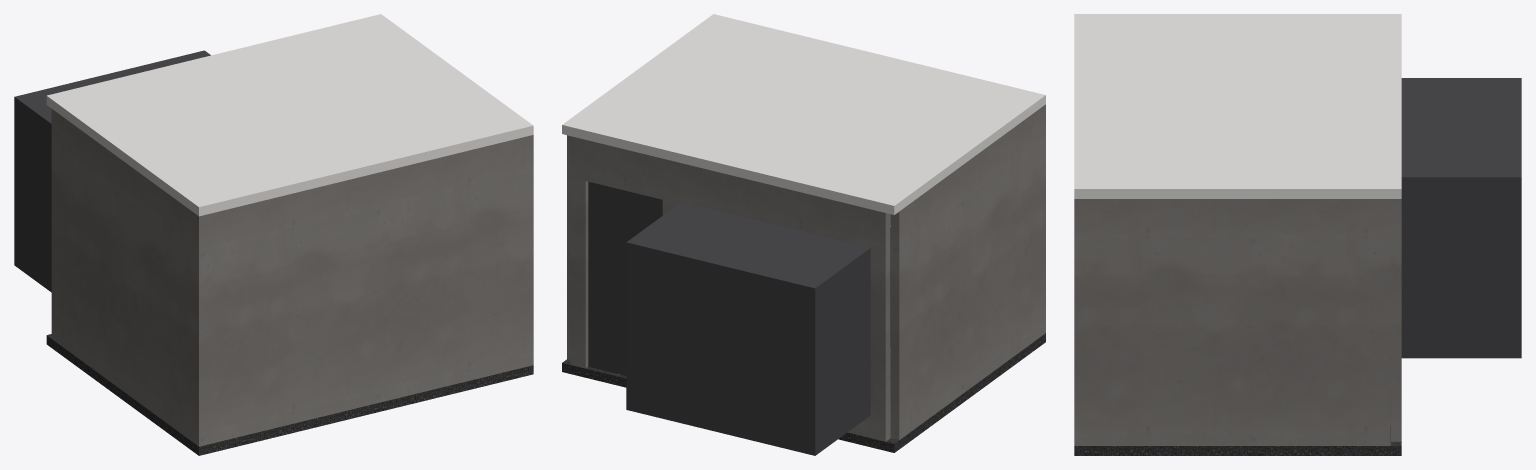
File: recording-studio.glb
3 views of the same model, side by side, from view 1: azimuth 30°, elevation 25°; view 2: azimuth 150°, elevation 25°; view 3: azimuth 270°, elevation 25° (orthographic). The views are drawn at different scales.
Visible parts, largest first — view 1: recording-studio; view 2: recording-studio; view 3: recording-studio.
Part boxes in pixels (x1,y1,x2,y2): recording-studio: [14, 14, 533, 455]; recording-studio: [562, 14, 1045, 455]; recording-studio: [1074, 14, 1521, 455].
Bounding box in the file's own units: 3.8 × 2.7 × 4.1.
15 materials, 4 textured.
